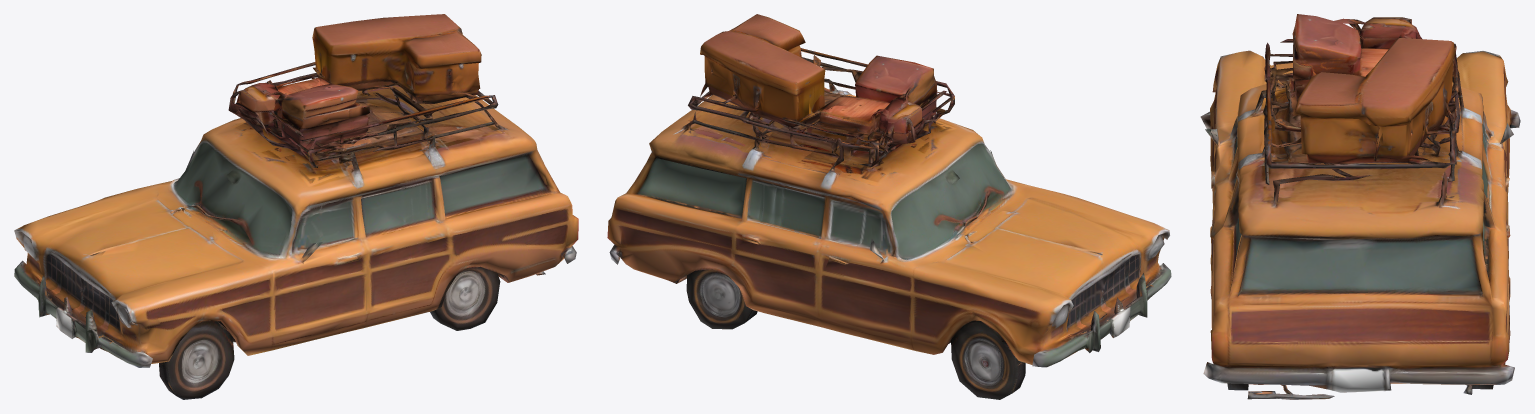
File: eski_tip_amerikan_s_0603181557_texture.glb
The picture shows the model from 3 angles, left to right: view 1: azimuth 30°, elevation 25°; view 2: azimuth 150°, elevation 25°; view 3: azimuth 270°, elevation 25°; orthographic projection. The views are drawn at different scales.
Bounding box in the file's own units: 1.99 × 1.06 × 0.986.
Materials: 1 (1 with a texture image).
